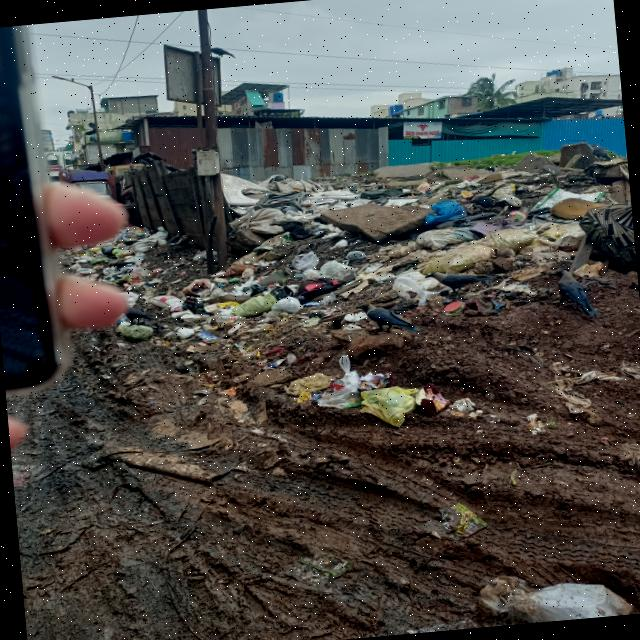garbage: (220, 146, 640, 332), (92, 202, 238, 362), (258, 350, 442, 440)
